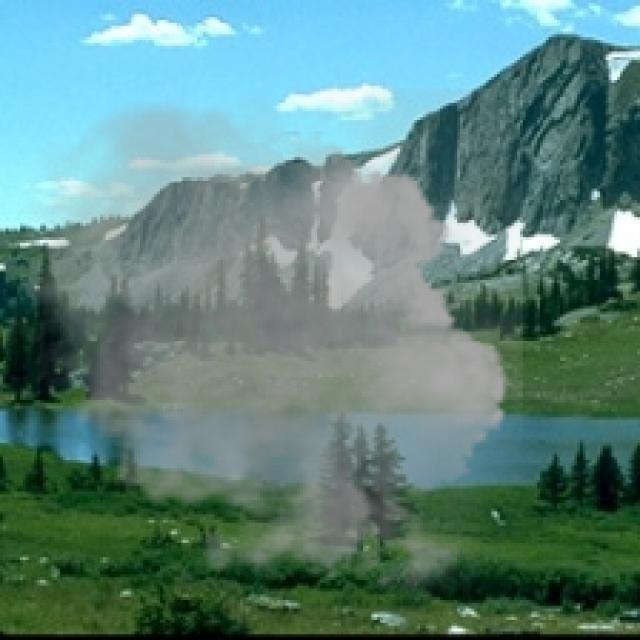Smoke: (0, 89, 523, 608)
